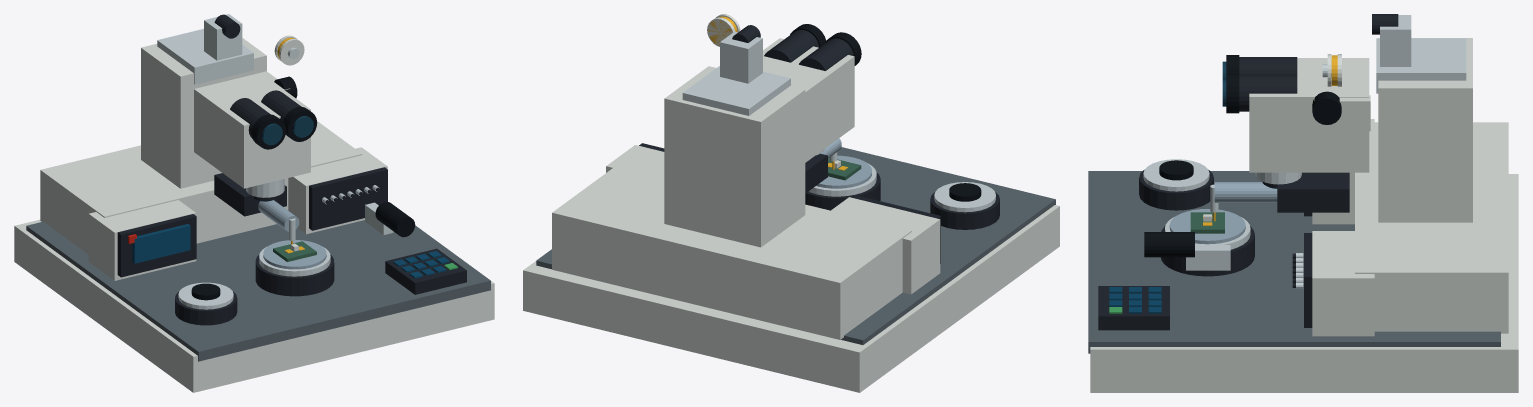
3 renders of one model, left to right at view 1: azimuth 30°, elevation 25°; view 2: azimuth 150°, elevation 25°; view 3: azimuth 270°, elevation 25°, orthographic. The views are drawn at different scales.
Parts seen in each view (by area): view 1: body, microscope, workholder, keypad, wedge, lever, spool, package; view 2: body, microscope, workholder, wedge, spool, package; view 3: body, microscope, wedge, keypad, workholder, lever, package, spool.
Part boxes in pixels (x1,y1,x2,y2): body: (14, 14, 494, 392); microscope: (194, 71, 317, 201); workholder: (255, 240, 334, 296); keypad: (385, 248, 466, 294); wedge: (214, 173, 299, 244); lever: (365, 201, 415, 237); spool: (274, 35, 304, 65); package: (273, 241, 316, 261); body: (523, 25, 1059, 392); microscope: (763, 24, 861, 162); workholder: (805, 155, 880, 210); wedge: (805, 138, 841, 193); spool: (707, 14, 740, 46); package: (828, 158, 861, 180); body: (1088, 14, 1518, 392); microscope: (1222, 55, 1370, 188); wedge: (1210, 172, 1349, 221); keypad: (1098, 286, 1169, 330); workholder: (1161, 209, 1254, 276); lever: (1144, 232, 1230, 270); package: (1190, 212, 1224, 233); spool: (1322, 54, 1341, 86).
Size of the model in its own units: 0.68 by 0.5297 by 0.703.
